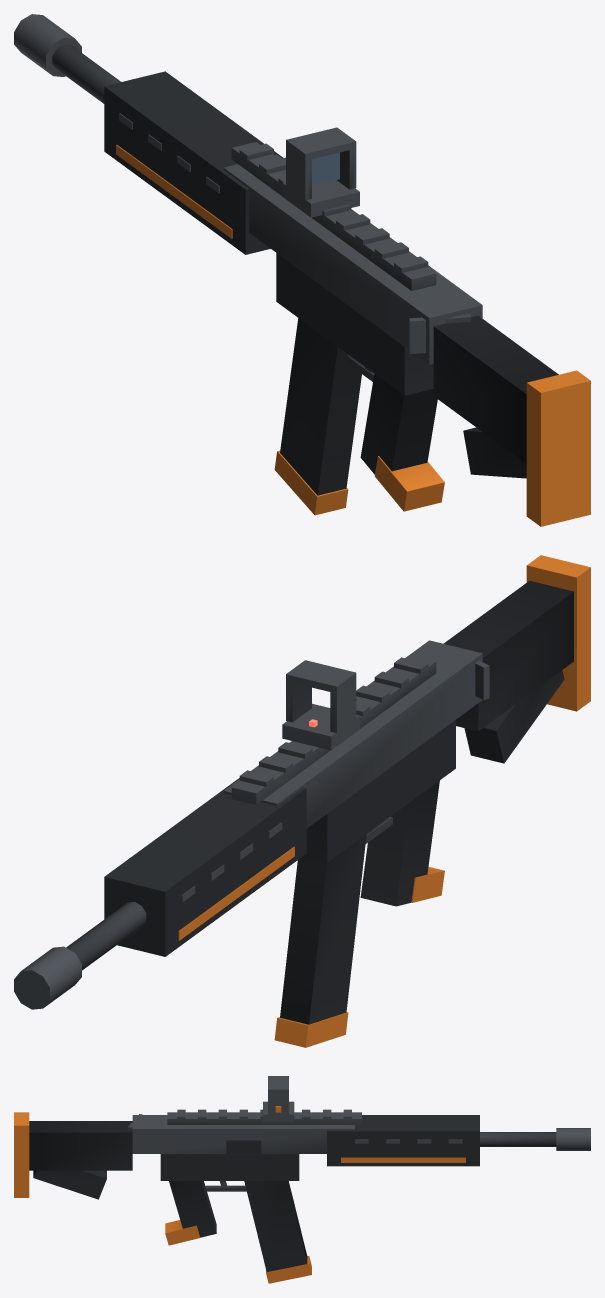
File: gun.47fad77d.glb
The picture shows the model from 3 angles, top to bottom: view 1: azimuth 30°, elevation 25°; view 2: azimuth 150°, elevation 25°; view 3: azimuth 270°, elevation 25°; orthographic projection. The views are drawn at different scales.
Visible parts, largest first — view 1: Gun, Magazine, SightGlass; view 2: Gun, Magazine; view 3: Gun, Magazine.
Part boxes in pixels (x1,y1,x2,y2): Gun: (14,14,590,526); Magazine: (274,318,361,515); SightGlass: (312,152,339,185); Gun: (14,555,590,1009); Magazine: (274,834,366,1047); Gun: (14,1076,590,1245); Magazine: (244,1181,311,1283).
Bounding box in the file's own units: 0.0641 × 0.3128 × 0.831.
